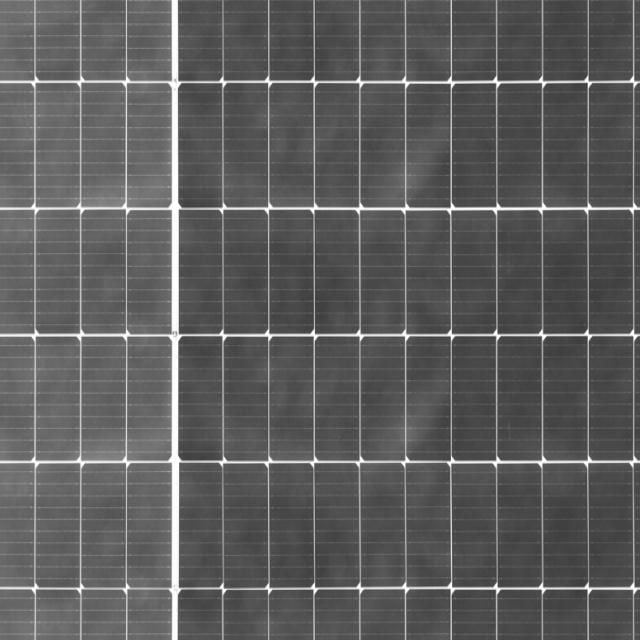CORRECT: (89, 19, 501, 640), (321, 0, 640, 640)
